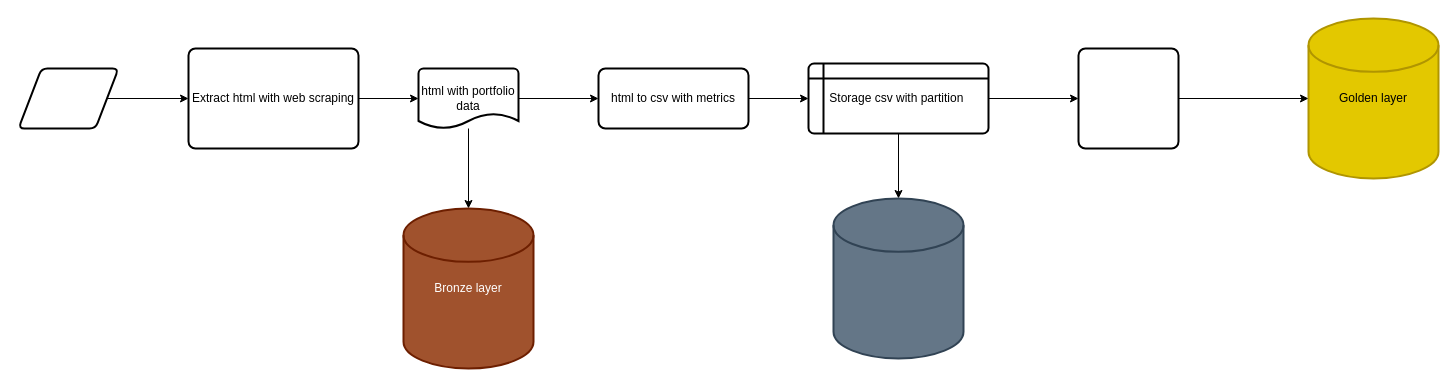
This 1456x386 diagram has some shape labels left out. Here are the shapes that lost their labels. From the top down, the centre of each, then its label:
At (x=68, y=98): "html web".
At (x=1128, y=98): "transform and generate metrics".
At (x=898, y=278): "Silver layer".
